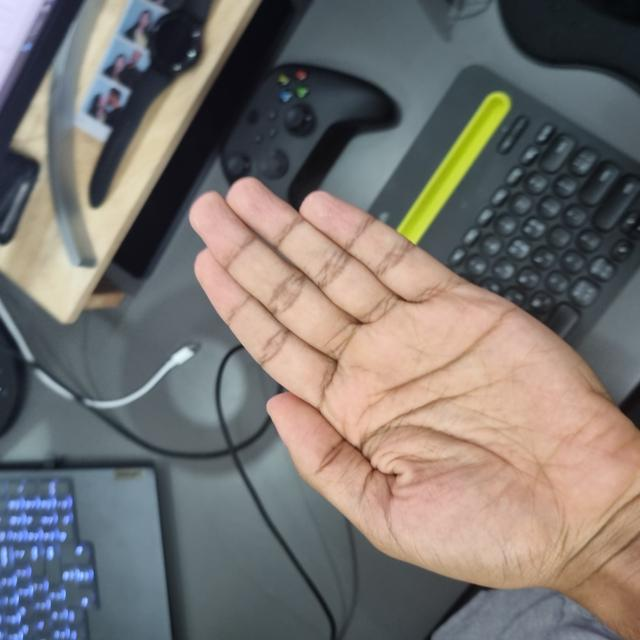Paper: (51, 269, 377, 638)
